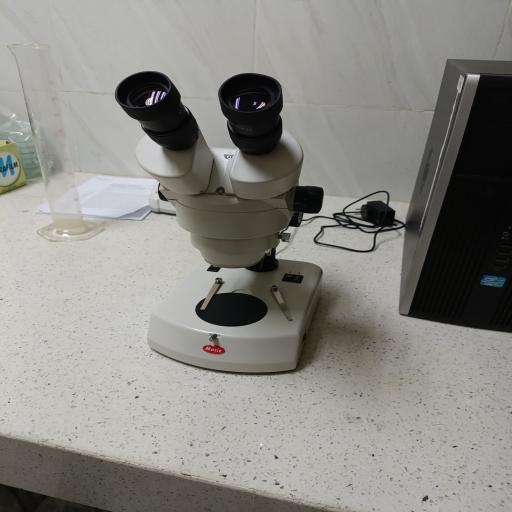Microscopio_estereo: (87, 63, 361, 377)
